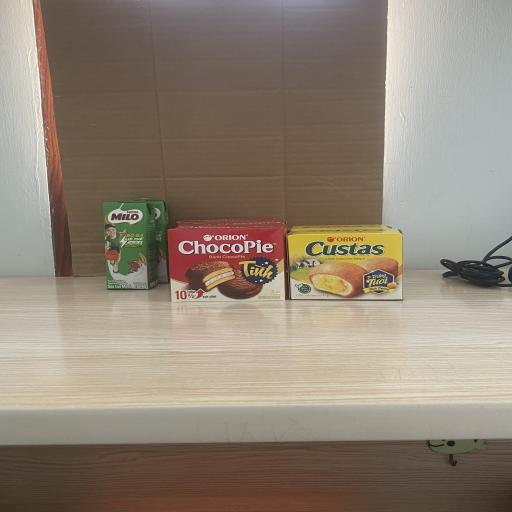chocopie: (167, 218, 287, 302)
custas: (286, 224, 404, 301)
milo: (103, 201, 157, 290), (133, 198, 171, 284)
